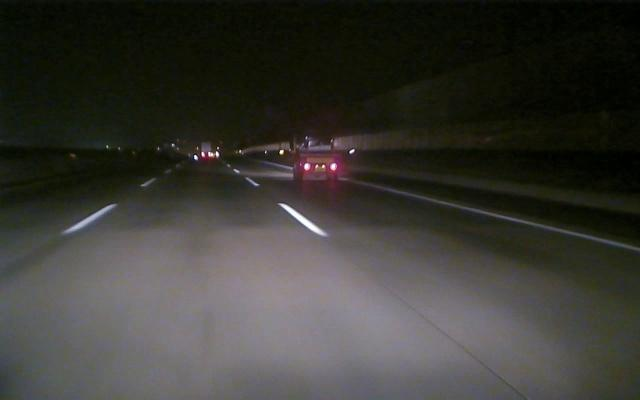lane: (358, 183, 638, 252), (60, 177, 157, 238), (248, 180, 329, 237)
